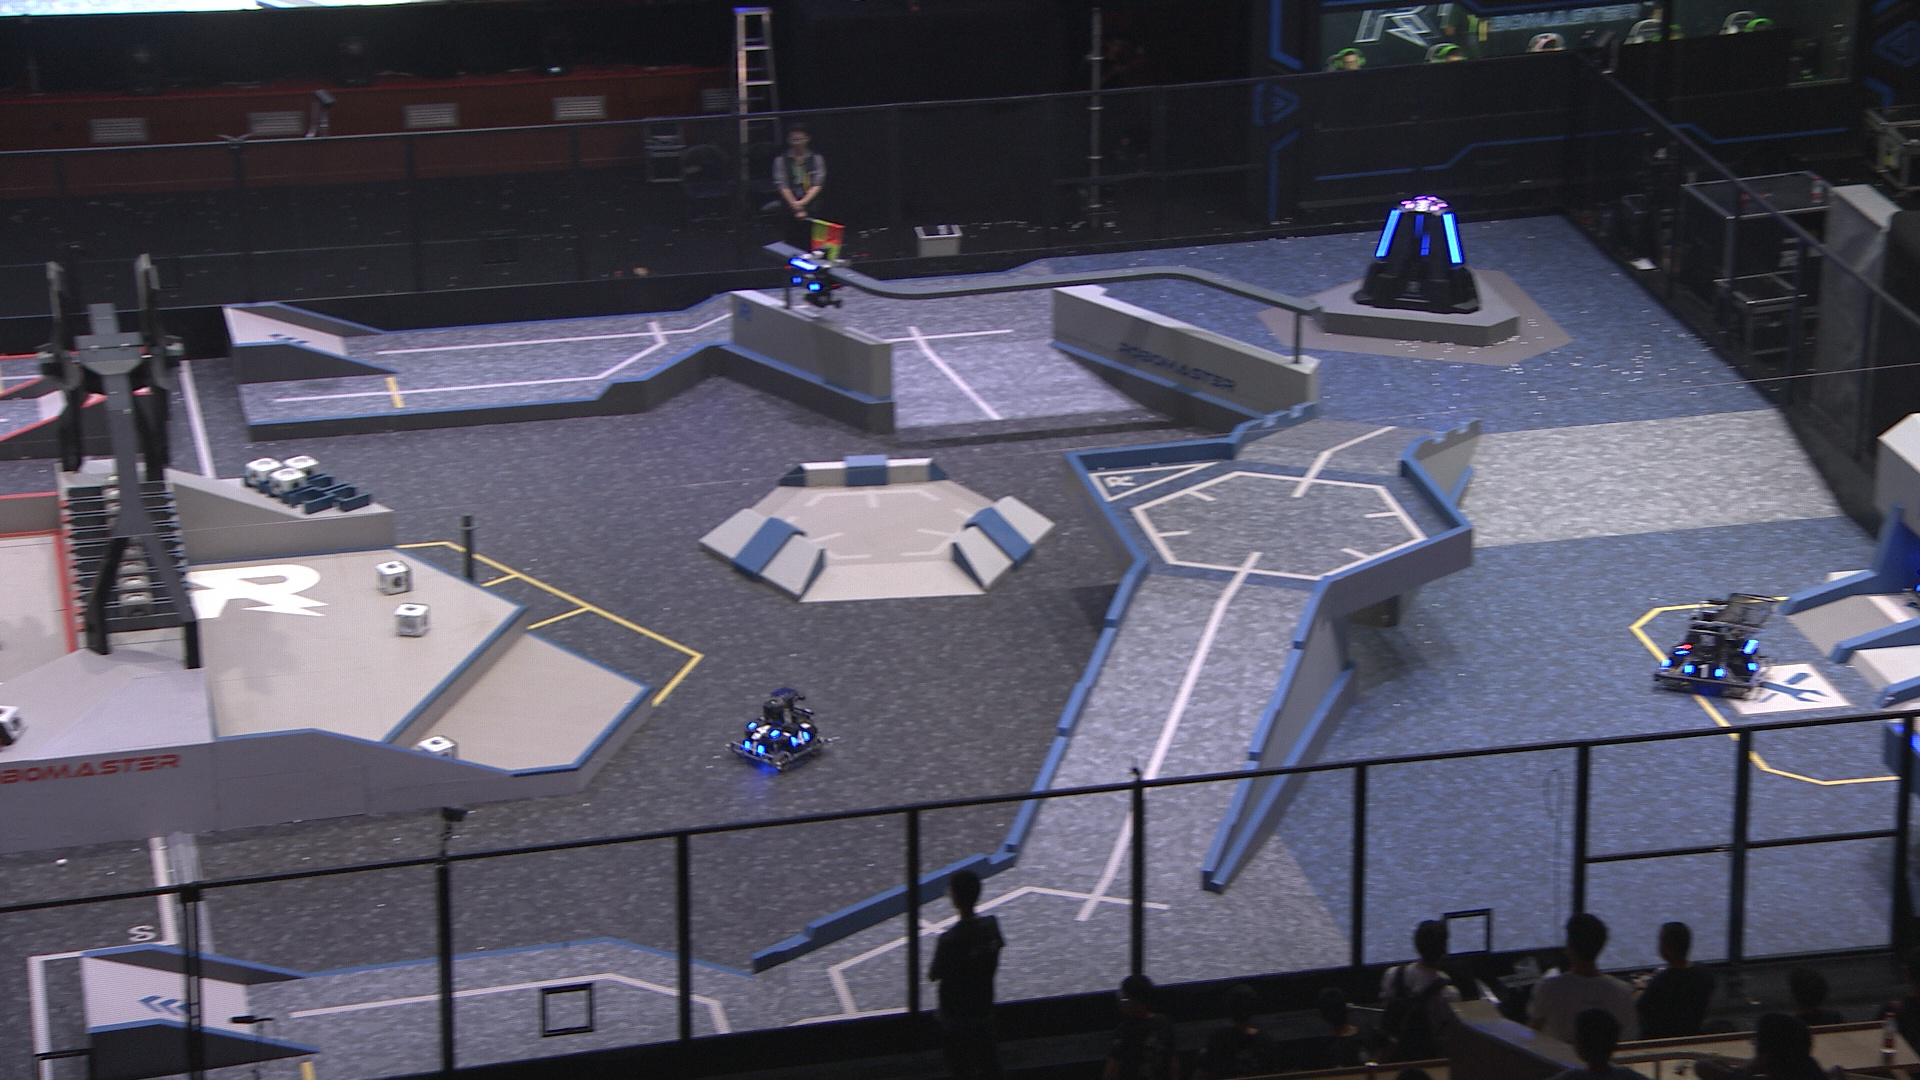armor: (1375, 208, 1400, 261), (1441, 214, 1461, 264), (1683, 665, 1724, 680), (789, 276, 822, 291), (750, 719, 778, 737), (744, 740, 765, 760), (1743, 654, 1764, 674), (1676, 638, 1691, 662), (793, 731, 811, 746)
base: (1349, 191, 1484, 319)
car: (1652, 591, 1778, 702), (731, 680, 827, 770)
ignore: (1406, 199, 1443, 211)
watcher: (785, 248, 851, 309)
